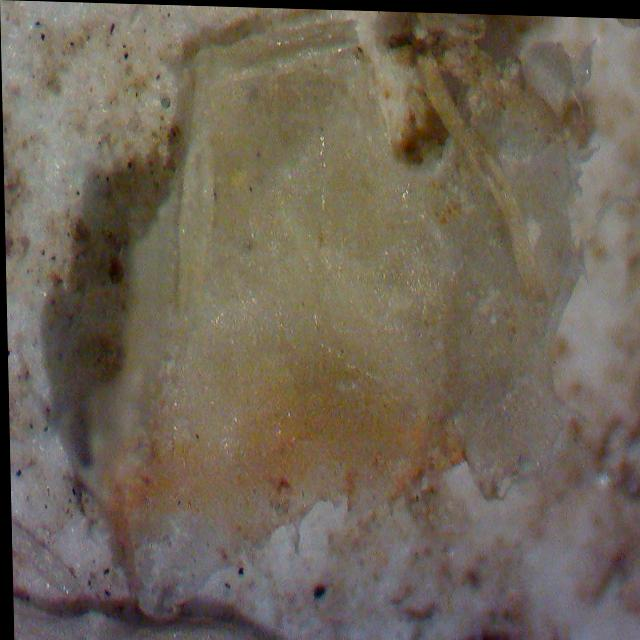microplastic: (55, 17, 593, 624)
